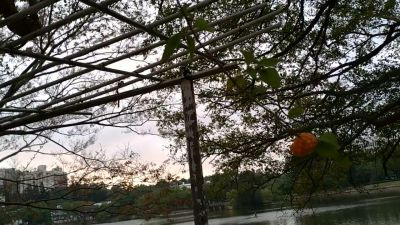eggs: (289, 132, 317, 158)
